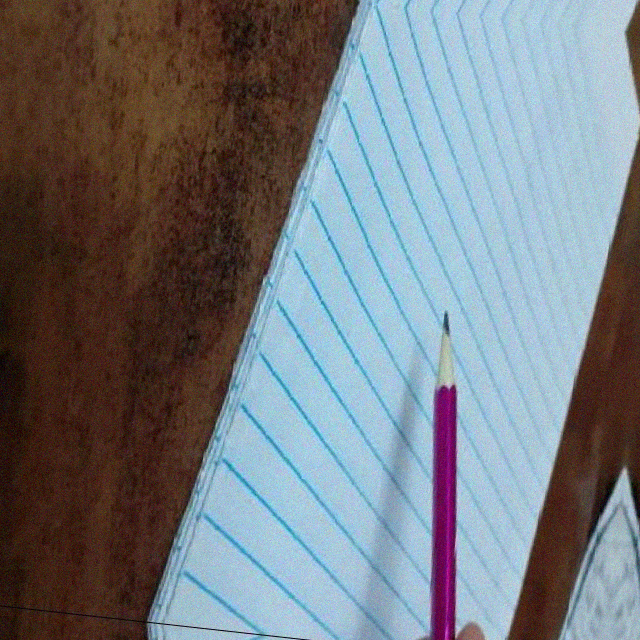pencil: (428, 307, 469, 389)
